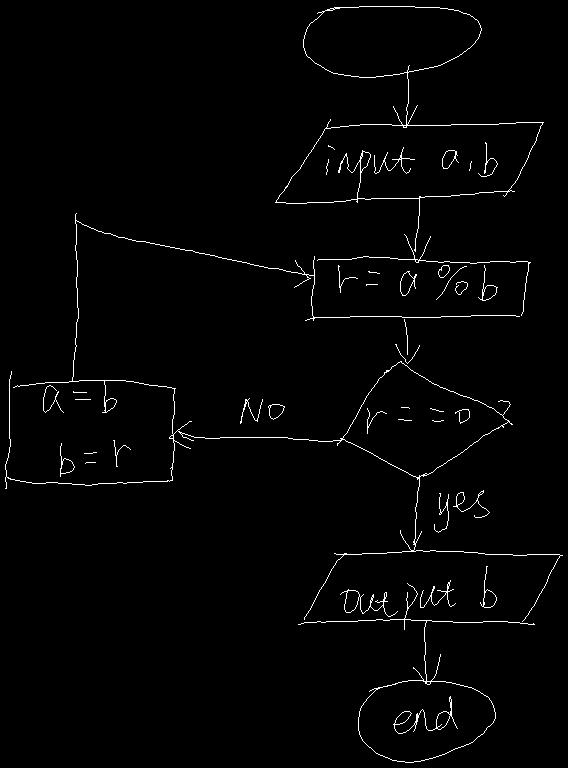arrow: (72, 213, 314, 381), (169, 421, 343, 448), (404, 196, 430, 262), (413, 621, 440, 684), (400, 475, 421, 550), (393, 65, 417, 127), (395, 319, 419, 363)
data: (275, 119, 543, 203), (298, 550, 562, 624)
decision: (337, 361, 512, 479)
process: (5, 371, 175, 488), (305, 256, 530, 320)
terminator: (303, 6, 481, 77), (358, 680, 495, 762)
text: (326, 142, 497, 202), (340, 566, 496, 629), (43, 380, 130, 476), (338, 265, 497, 300), (367, 400, 510, 433), (393, 696, 457, 733), (434, 490, 489, 532), (240, 398, 284, 423)
